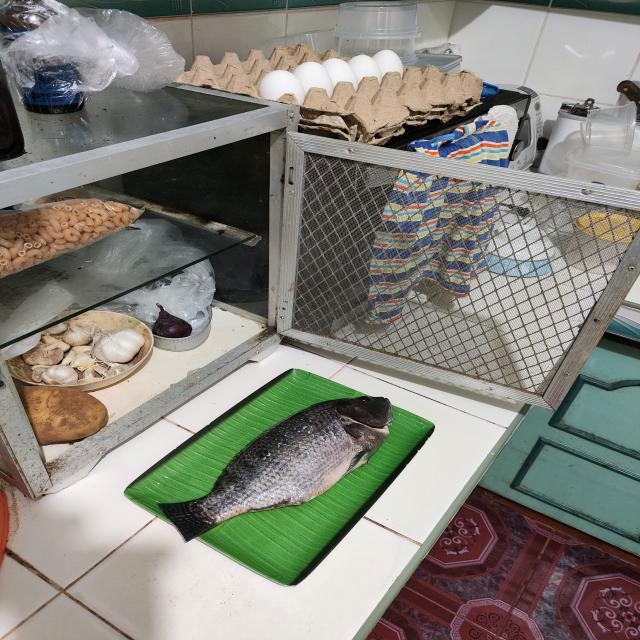egg: (261, 49, 403, 97)
fish: (161, 395, 395, 542)
garlic: (21, 324, 145, 380)
onion: (154, 305, 194, 339)
potato: (11, 386, 108, 442)
